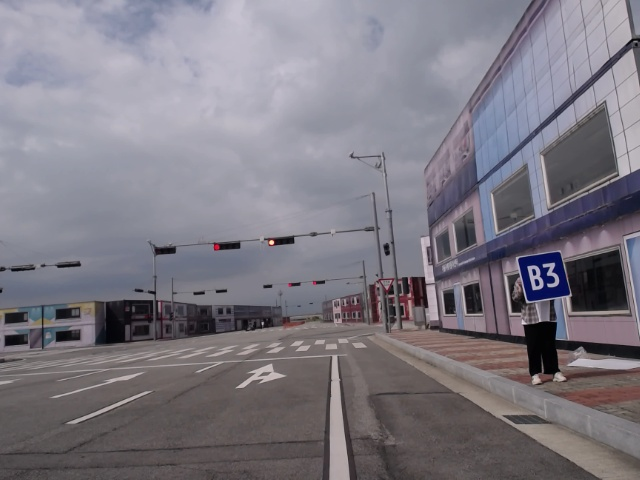delivery_b3: (515, 250, 573, 303)
red_4: (212, 239, 243, 252), (267, 237, 297, 246), (311, 279, 328, 287), (286, 281, 302, 288)
